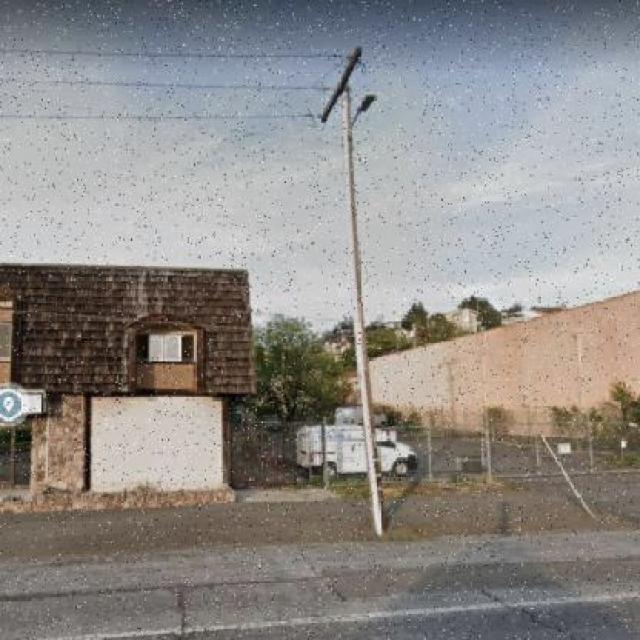crossarm: (314, 45, 365, 126)
pole: (341, 80, 385, 538)
wire: (0, 78, 331, 91), (0, 47, 347, 59), (0, 113, 321, 121)
